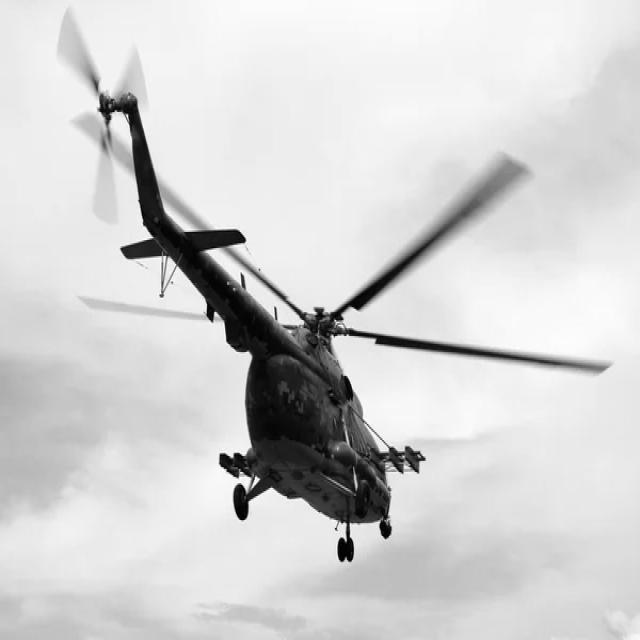Helicopter: (57, 8, 610, 563)
